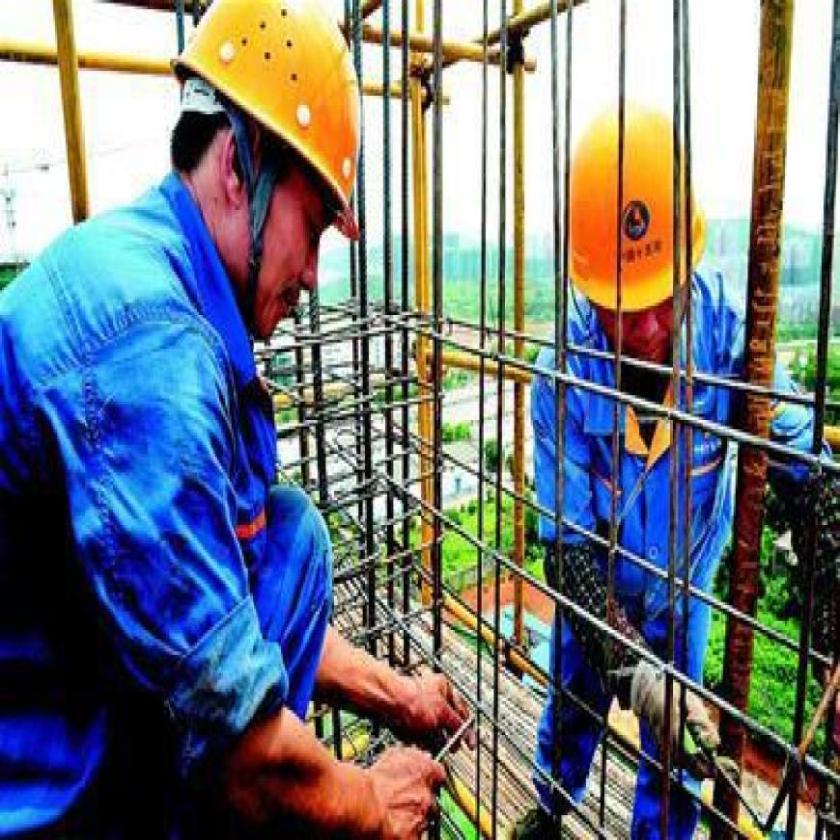Con_casco: (154, 0, 392, 320), (538, 91, 728, 360)
